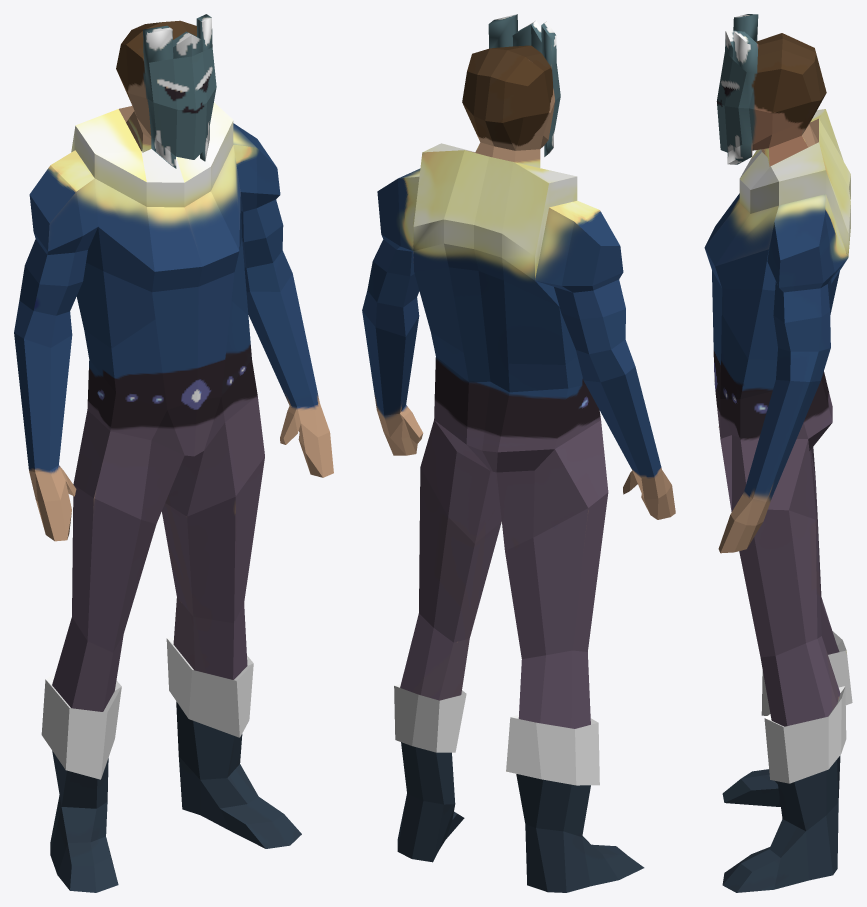
File: WaveWeaver.fbx
The picture shows the model from 3 angles, left to right: view 1: azimuth 30°, elevation 25°; view 2: azimuth 150°, elevation 25°; view 3: azimuth 270°, elevation 25°; orthographic projection. The views are drawn at different scales.
Visible parts, largest first — view 1: Cube; view 2: Cube; view 3: Cube.
Part boxes in pixels (x1=…): Cube: x1=14, y1=14, x2=333, y2=892; Cube: x1=362, y1=14, x2=675, y2=892; Cube: x1=704, y1=14, x2=852, y2=892.
Bounding box in the file's own units: 89.05 × 250 × 41.08.
